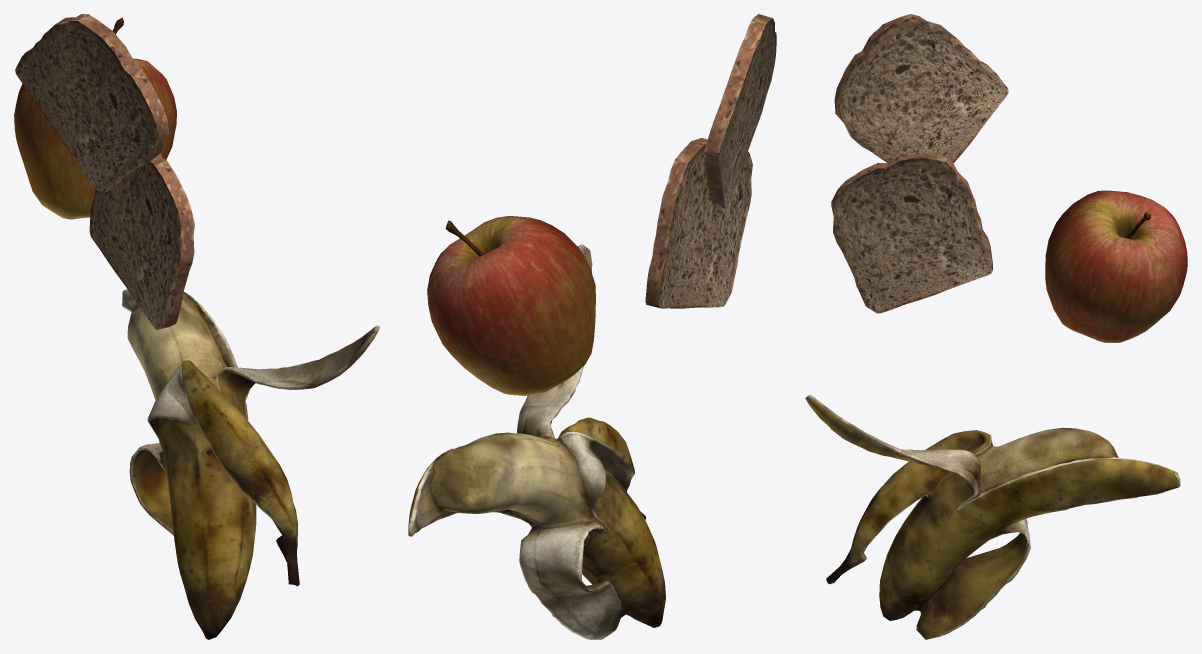
Rendered from basurero-cafe.glb.
The picture shows the model from 3 angles, left to right: view 1: azimuth 30°, elevation 25°; view 2: azimuth 150°, elevation 25°; view 3: azimuth 270°, elevation 25°; orthographic projection. The views are drawn at different scales.
Visible parts, largest first — view 1: Banana, bread_Material.002_0.001, bread, Apple_M_Apple_0.001; view 2: Banana, Apple_M_Apple_0.001, bread, bread_Material.002_0.001; view 3: Banana, bread, bread_Material.002_0.001, Apple_M_Apple_0.001.
Part boxes in pixels (bbox=[...]): Banana: bbox=[122, 289, 379, 639]; bread_Material.002_0.001: bbox=[15, 14, 169, 191]; bread: bbox=[89, 154, 194, 329]; Apple_M_Apple_0.001: bbox=[14, 17, 176, 219]; Banana: bbox=[408, 244, 665, 639]; Apple_M_Apple_0.001: bbox=[427, 216, 595, 395]; bread: bbox=[645, 138, 752, 308]; bread_Material.002_0.001: bbox=[704, 14, 776, 208]; Banana: bbox=[805, 395, 1180, 639]; bread: bbox=[831, 152, 992, 313]; bread_Material.002_0.001: bbox=[834, 14, 1008, 163]; Apple_M_Apple_0.001: bbox=[1045, 190, 1187, 342].
Size of the model in its own units: 2.09 by 5.12 by 3.16.
4 materials, 4 textured.
